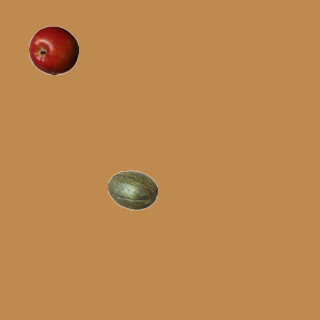Apple Braeburn: (28, 25, 78, 75)
Melon Piel de Sapo: (107, 165, 157, 215)
